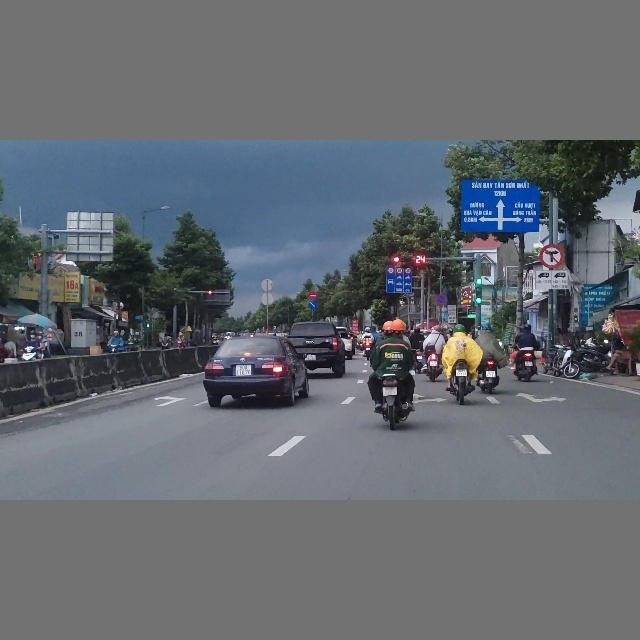P.102: (309, 290, 317, 300)
P.127*60: (387, 267, 394, 274), (396, 267, 403, 274), (405, 267, 411, 273)
P.131a: (436, 293, 447, 304)
P.137: (540, 244, 563, 268)
R.302a: (309, 301, 318, 309)
R.415a: (386, 274, 412, 293)
